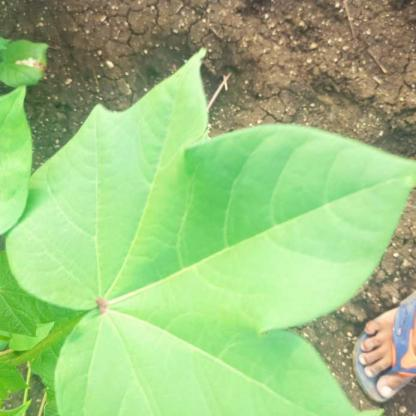cotton: (20, 49, 415, 416)
